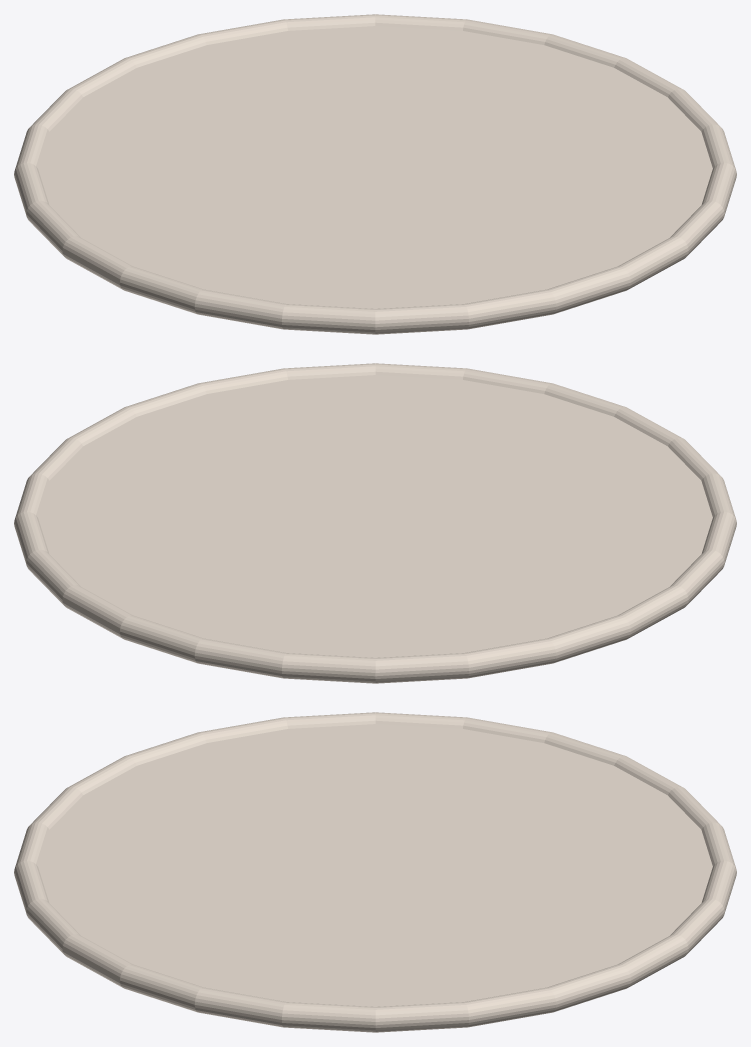
The model's file is turntable.glb.
3 views of the same model, one above another, from view 1: azimuth 30°, elevation 25°; view 2: azimuth 150°, elevation 25°; view 3: azimuth 270°, elevation 25° (orthographic).
Parts seen in each view (by area): view 1: world; view 2: world; view 3: world.
Part boxes in pixels (x1,y1,x2,y2): world: [14, 14, 736, 334]; world: [14, 363, 736, 683]; world: [14, 712, 736, 1032].
Size of the model in its own units: 0.172 by 0.012 by 0.172.
